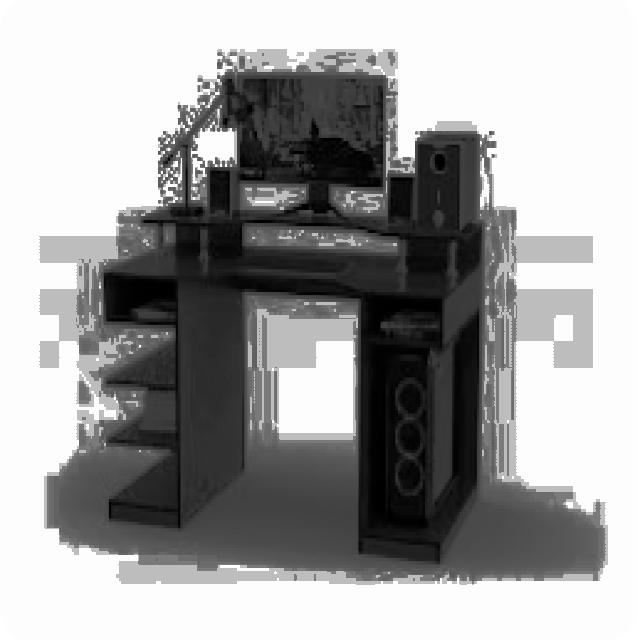table: (101, 204, 482, 561)
